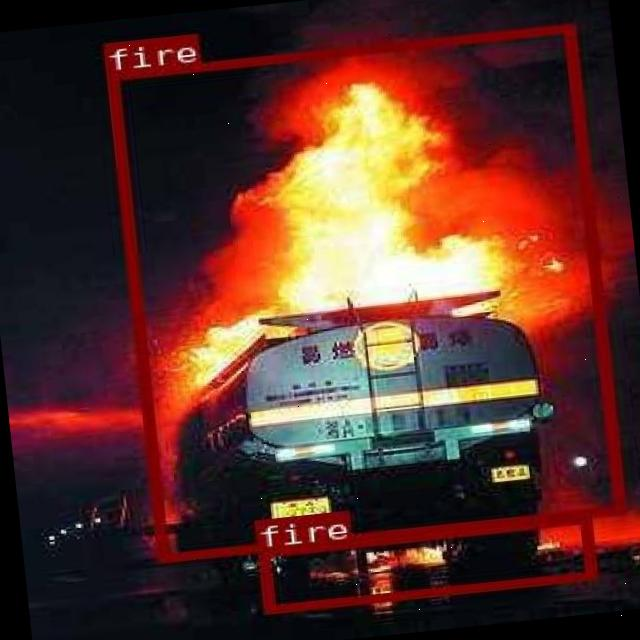fire: (104, 22, 624, 562), (256, 514, 594, 612)
